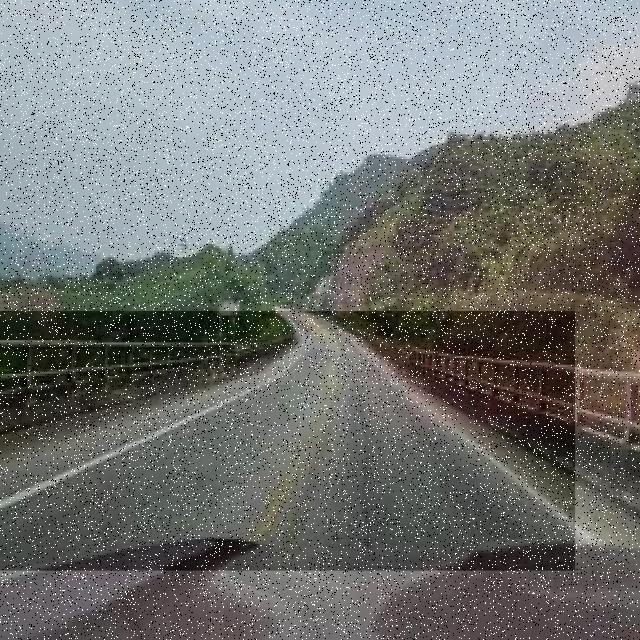clear-road: (0, 312, 575, 571)
